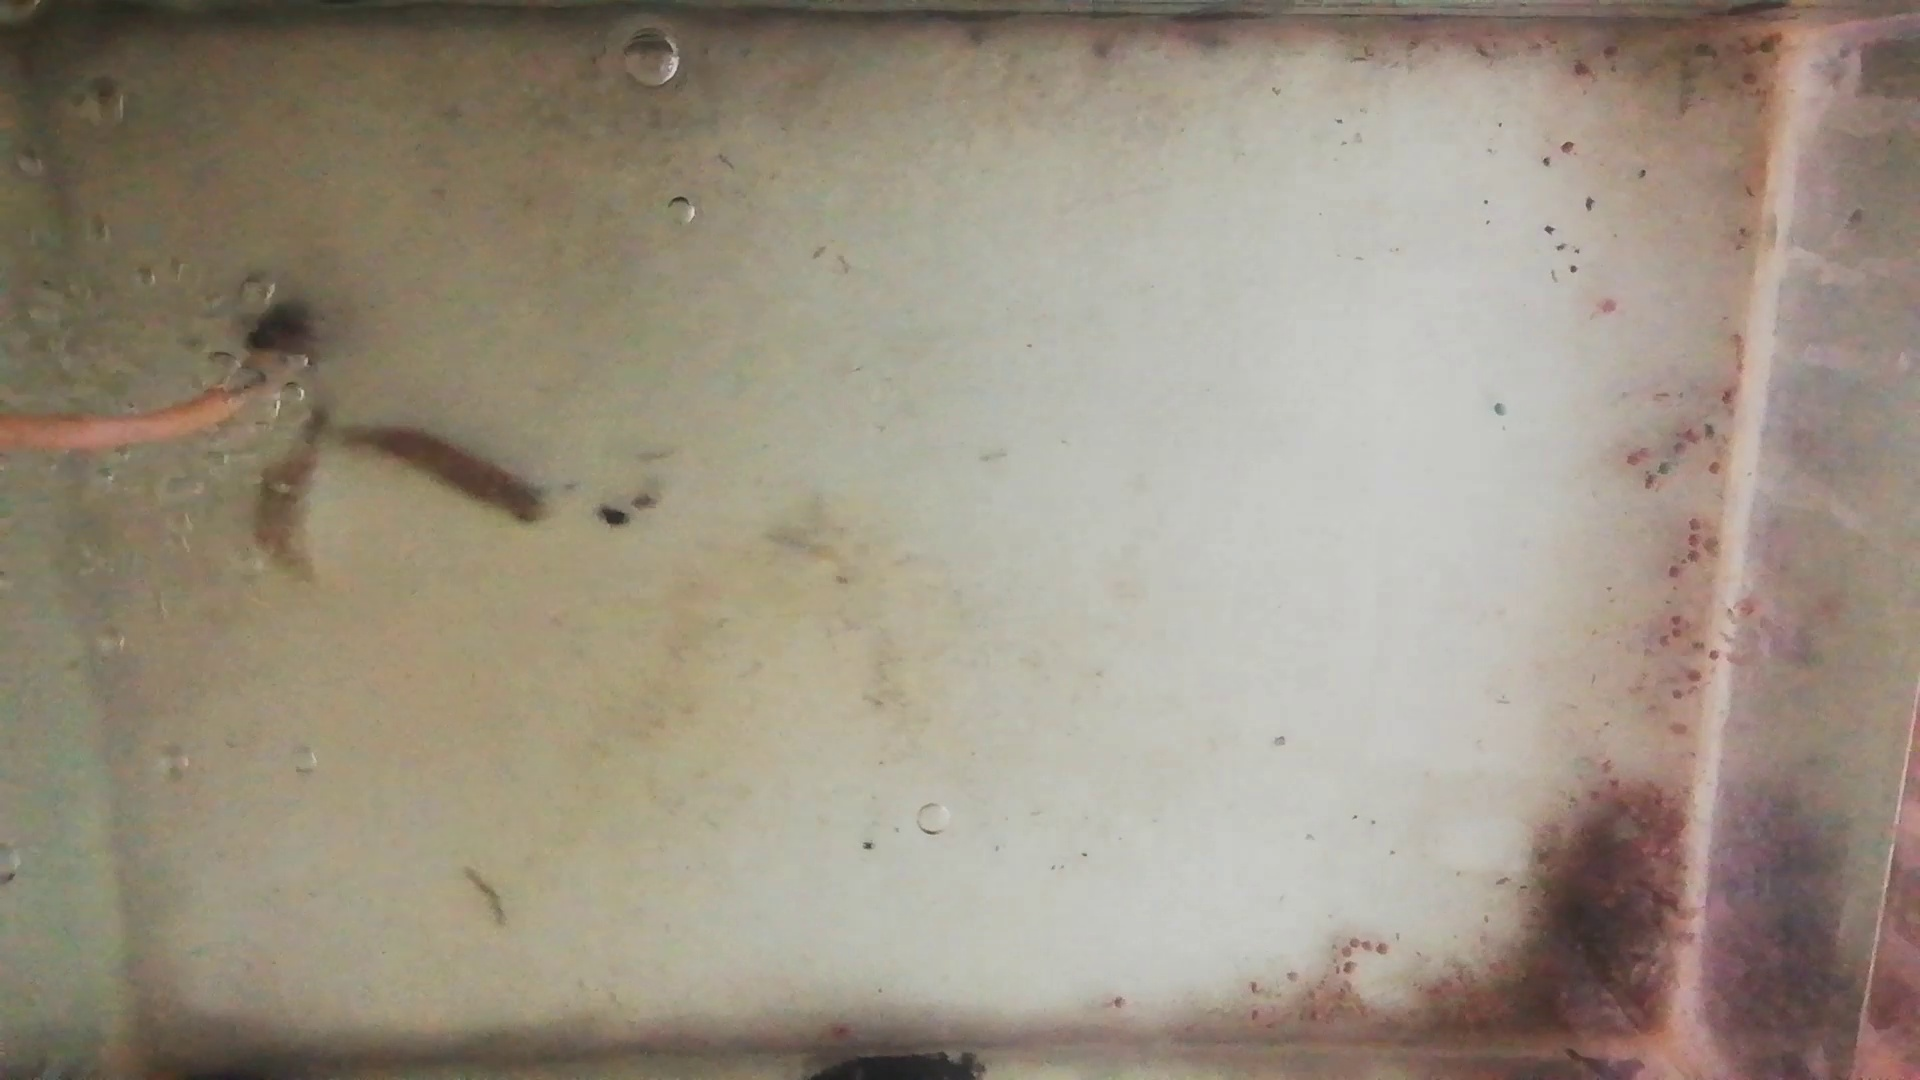fish: (338, 423, 556, 527), (255, 407, 319, 576)
